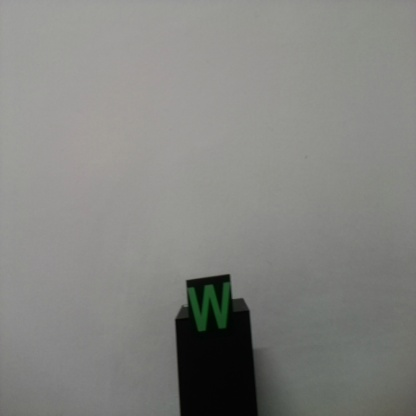id_12: (186, 279, 234, 349)
